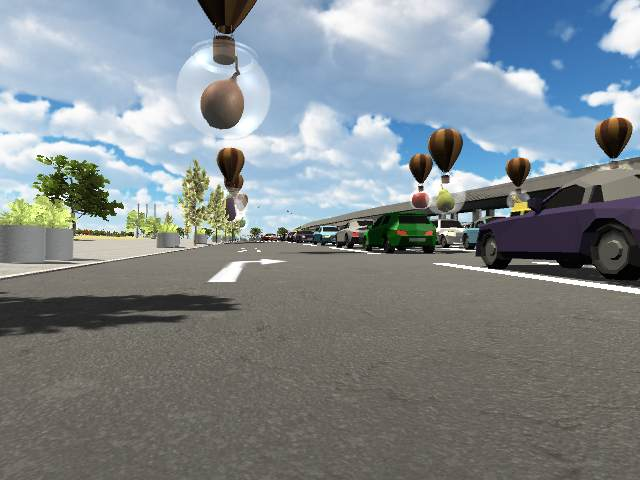ground_right: (223, 256, 290, 267)
